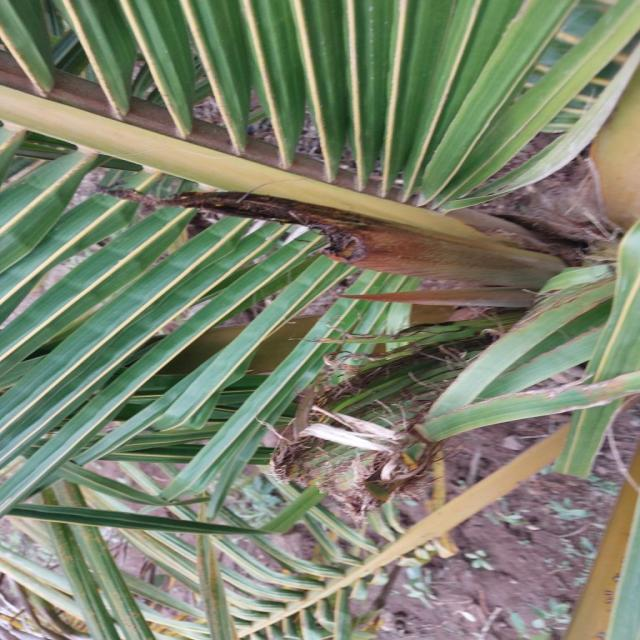bud rot: (118, 191, 565, 289)
